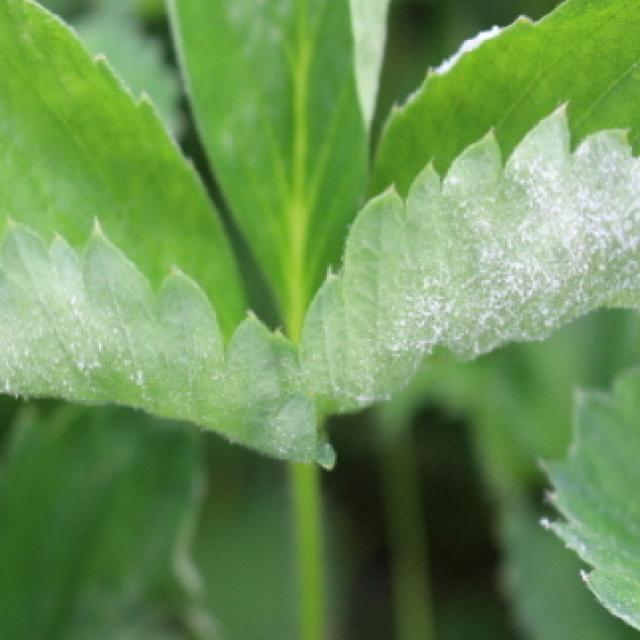Powdery Mildew Leaf: (296, 0, 640, 419), (165, 0, 391, 338)
